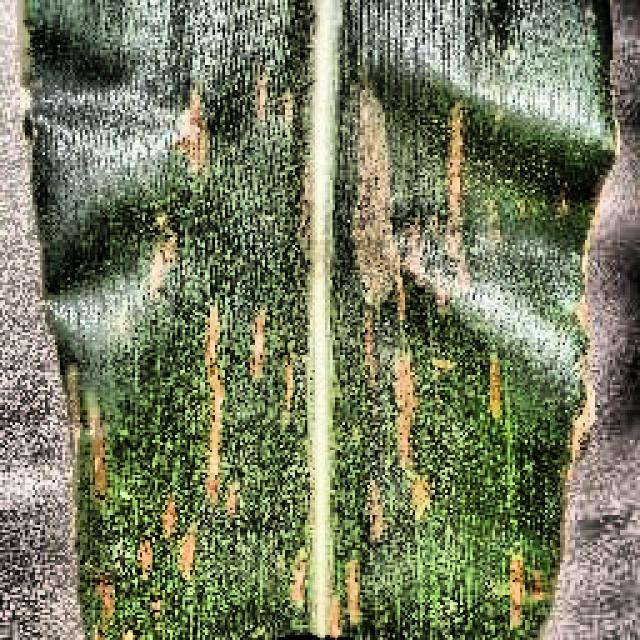gray_spot: (22, 0, 602, 640)
